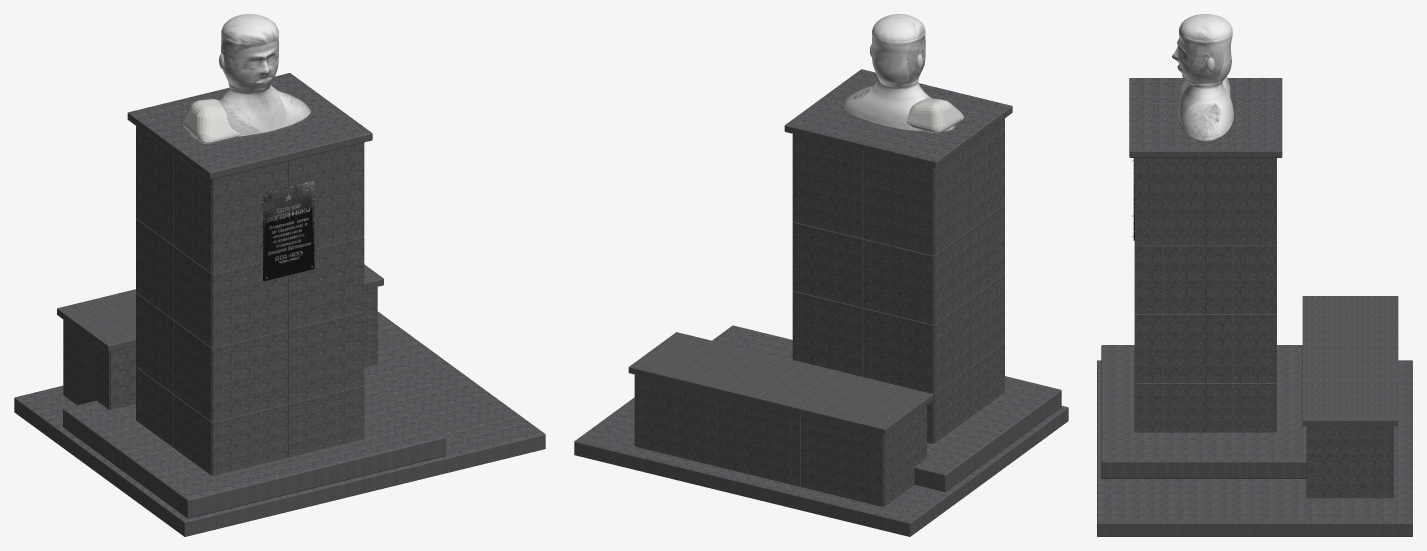
Rendered from monument-v3.glb.
3 views of the same model, side by side, from view 1: azimuth 30°, elevation 25°; view 2: azimuth 150°, elevation 25°; view 3: azimuth 270°, elevation 25° (orthographic). The views are drawn at different scales.
Visible parts, largest first — view 1: Wide bottom slab, Front step, Pedestal cap, Photo referenced sculptural bust, Granite front back course 1 side -1 tile 0, Granite front back course 1 side -1 tile 1, Granite front back course 3 side -1 tile 0, Granite front back course 3 side -1 tile 1, Granite front back course 2 side -1 tile 0, Granite front back course 2 side -1 tile 1, Original inscription plaque, Granite front back course 0 side -1 tile 0 (+14 smaller); view 2: Wide bottom slab, Low block cap, Pedestal cap, Front step, Granite front back course 3 side 1 tile 0, Granite front back course 3 side 1 tile 1, Low rear block granite slab 1 0, Low rear block granite slab 1 1, Photo referenced sculptural bust, Low rear block granite slab 1 2, Granite front back course 2 side 1 tile 1, Granite front back course 1 side 1 tile 0 (+12 smaller); view 3: Wide bottom slab, Front step, Low block cap, Pedestal cap, Low rear block end 1, Granite side course 3 side 1 tile 0, Granite side course 3 side 1 tile 1, Photo referenced sculptural bust, Granite side course 2 side 1 tile 0, Granite side course 2 side 1 tile 1, Granite side course 1 side 1 tile 0, Granite side course 1 side 1 tile 1 (+2 smaller).
Part boxes in pixels (bbox=[...]): Wide bottom slab: bbox=[14, 311, 545, 536]; Front step: bbox=[63, 377, 445, 518]; Pedestal cap: bbox=[127, 73, 372, 179]; Photo referenced sculptural bust: bbox=[189, 14, 310, 139]; Granite front back course 1 side -1 tile 0: bbox=[212, 330, 288, 422]; Granite front back course 1 side -1 tile 1: bbox=[288, 311, 363, 403]; Granite front back course 3 side -1 tile 0: bbox=[212, 161, 288, 273]; Granite front back course 3 side -1 tile 1: bbox=[288, 142, 363, 248]; Granite front back course 2 side -1 tile 0: bbox=[212, 261, 288, 347]; Granite front back course 2 side -1 tile 1: bbox=[288, 237, 363, 329]; Original inscription plaque: bbox=[263, 180, 314, 281]; Granite front back course 0 side -1 tile 0: bbox=[212, 404, 288, 475]; Wide bottom slab: bbox=[574, 325, 1068, 536]; Low block cap: bbox=[628, 332, 932, 435]; Pedestal cap: bbox=[784, 69, 1012, 168]; Front step: bbox=[784, 352, 1061, 491]; Granite front back course 3 side 1 tile 0: bbox=[863, 151, 933, 255]; Granite front back course 3 side 1 tile 1: bbox=[793, 134, 863, 238]; Low rear block granite slab 1 0: bbox=[800, 415, 883, 506]; Low rear block granite slab 1 1: bbox=[717, 395, 800, 486]; Photo referenced sculptural bust: bbox=[842, 14, 955, 131]; Low rear block granite slab 1 2: bbox=[635, 374, 717, 466]; Granite front back course 2 side 1 tile 1: bbox=[793, 222, 863, 307]; Granite front back course 1 side 1 tile 0: bbox=[863, 308, 933, 393]; Wide bottom slab: bbox=[1097, 360, 1412, 536]; Front step: bbox=[1101, 345, 1306, 478]; Low block cap: bbox=[1302, 296, 1398, 426]; Pedestal cap: bbox=[1129, 78, 1282, 157]; Low rear block end 1: bbox=[1308, 426, 1392, 498]; Granite side course 3 side 1 tile 0: bbox=[1136, 158, 1205, 245]; Granite side course 3 side 1 tile 1: bbox=[1206, 158, 1275, 245]; Photo referenced sculptural bust: bbox=[1172, 14, 1233, 140]; Granite side course 2 side 1 tile 0: bbox=[1136, 245, 1205, 314]; Granite side course 2 side 1 tile 1: bbox=[1206, 245, 1275, 314]; Granite side course 1 side 1 tile 0: bbox=[1136, 314, 1205, 382]; Granite side course 1 side 1 tile 1: bbox=[1206, 314, 1275, 382].
Bounding box in the file's own units: 2.75 × 3.24 × 2.25.
Materials: 6 (3 with a texture image).
